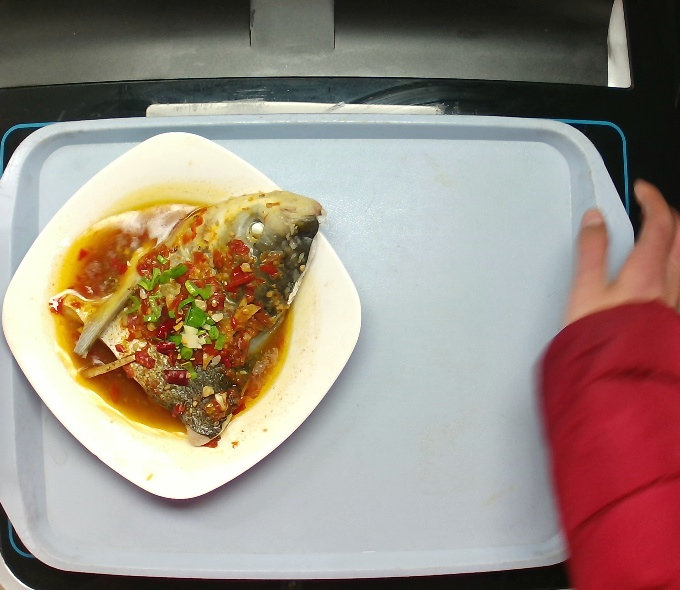wcq-DuoJiaoYuTou: (44, 172, 335, 453)
